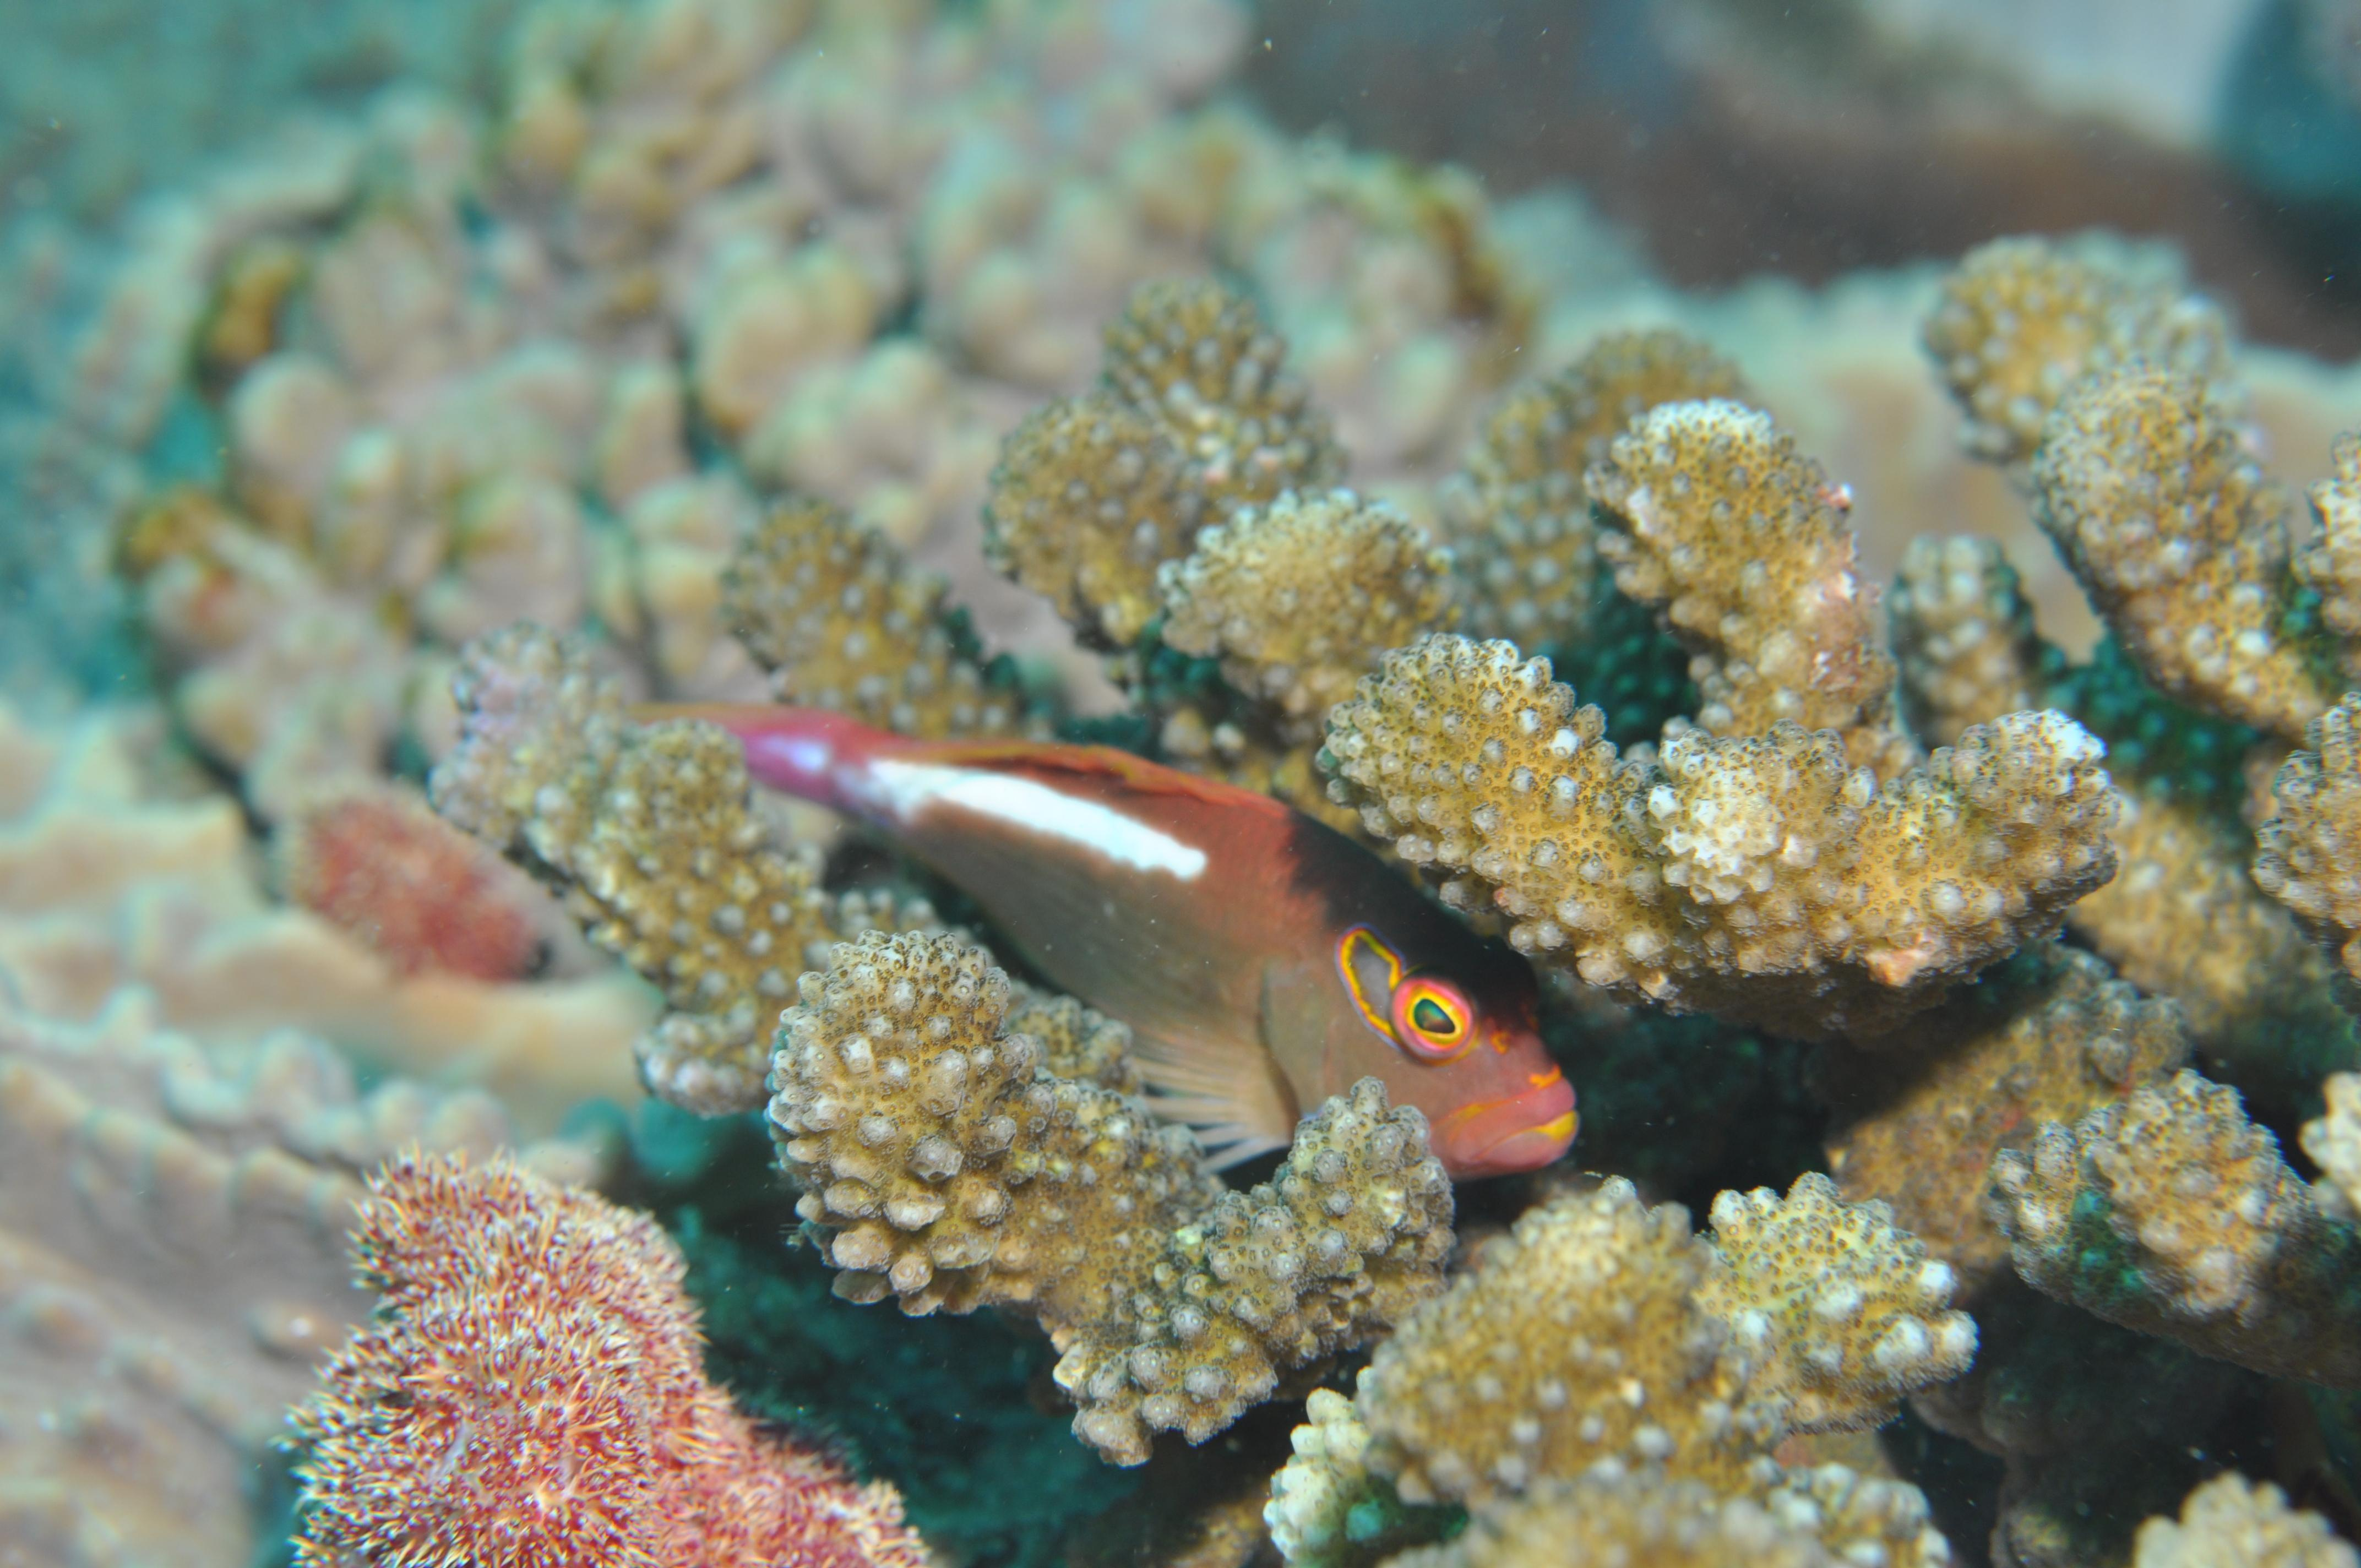Fish: (567, 658, 1614, 1221)
